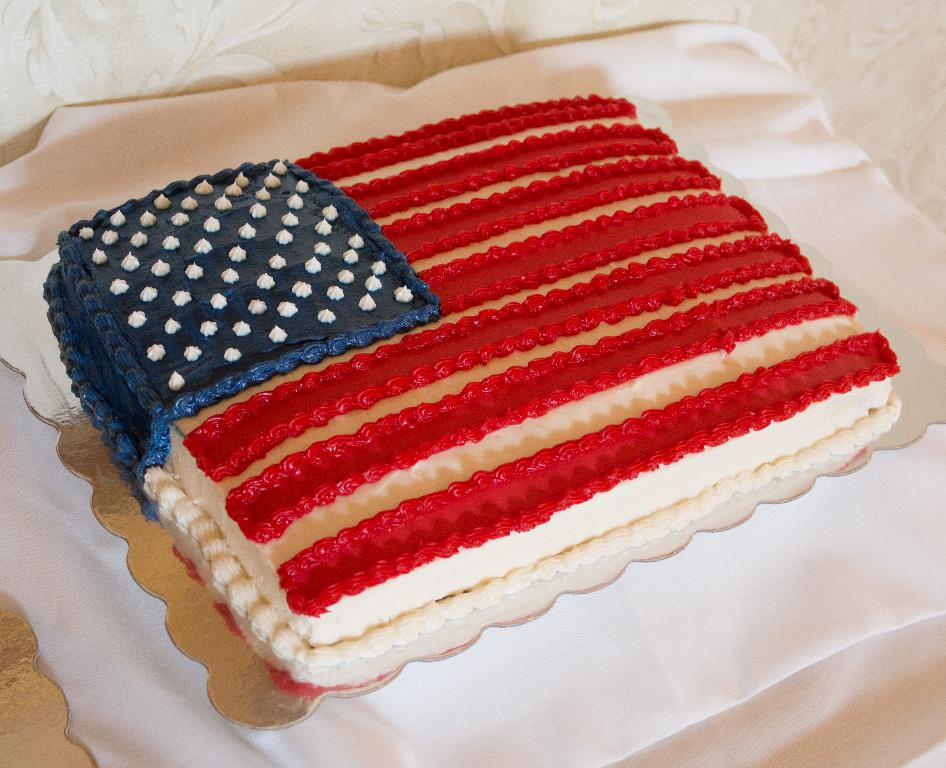cake: (37, 89, 905, 692)
